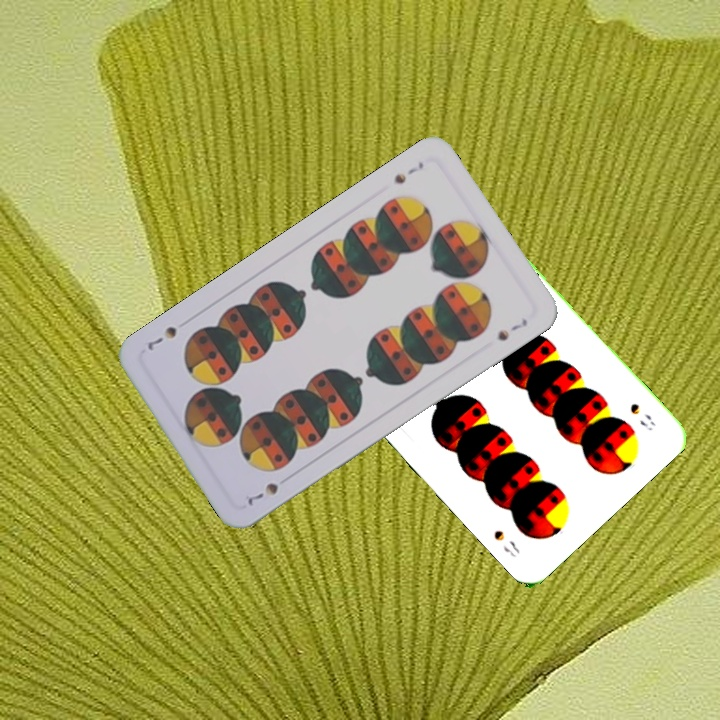S7: (240, 478, 281, 508), (390, 157, 427, 187)
S8: (626, 399, 657, 434)
